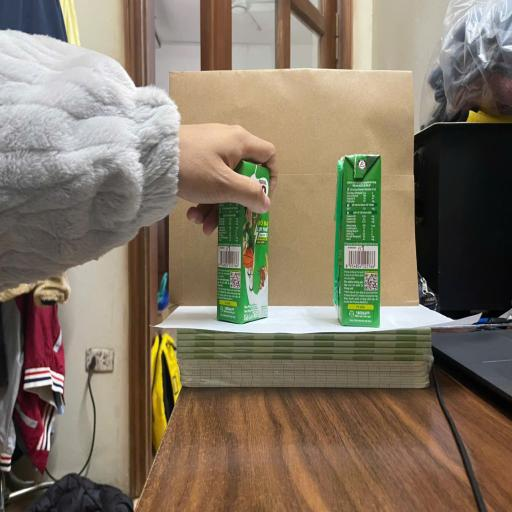milo: (217, 160, 270, 323), (335, 156, 382, 326)
